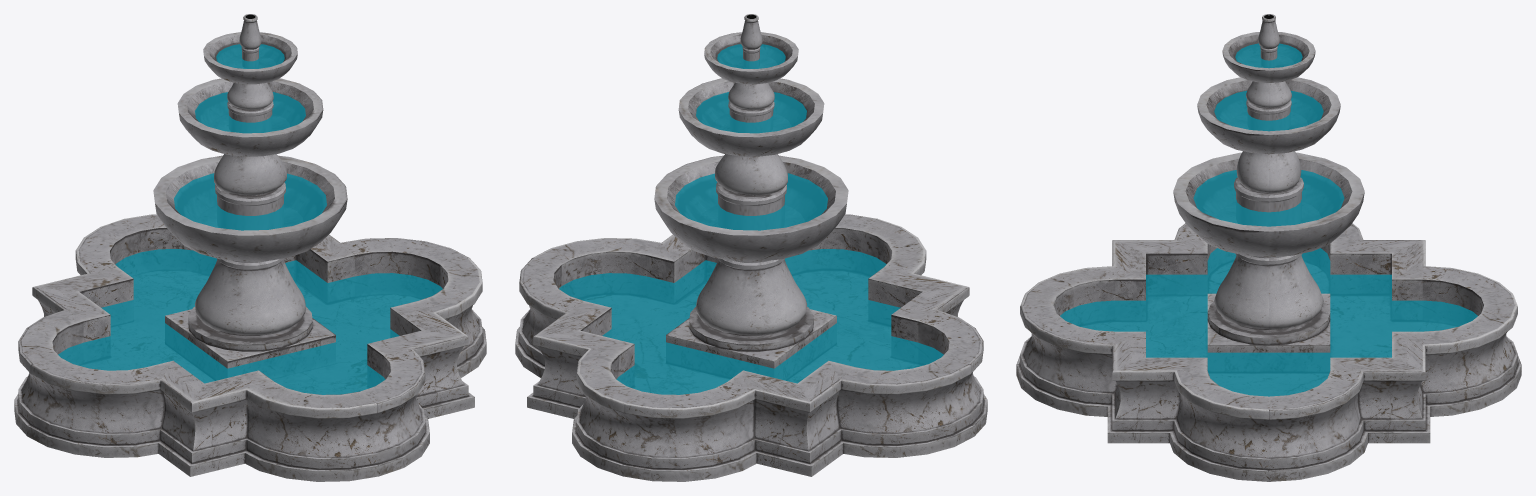
The model's file is Fountain.glb.
3 views of the same model, side by side, from view 1: azimuth 30°, elevation 25°; view 2: azimuth 150°, elevation 25°; view 3: azimuth 270°, elevation 25° (orthographic).
Visible parts, largest first — view 1: Fountain, Water; view 2: Fountain, Water; view 3: Fountain, Water.
Boxes of the visible parts, x1,y1,x2,y2 form: Fountain: (14,14,486,481); Water: (58,44,442,394); Fountain: (515,14,987,481); Water: (559,44,943,394); Fountain: (1016,14,1521,481); Water: (1060,43,1477,396).
Size of the model in its own units: 4.11 by 3.22 by 4.11.
Materials: 2 (2 with a texture image).
